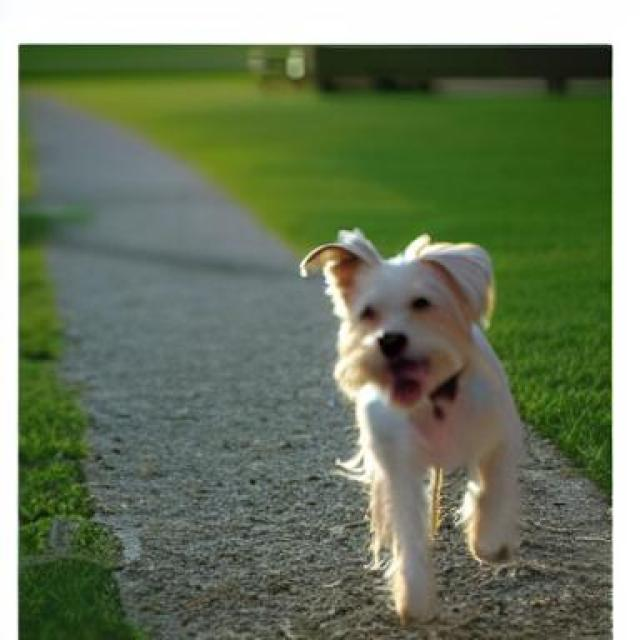Dog: (298, 226, 522, 620)
